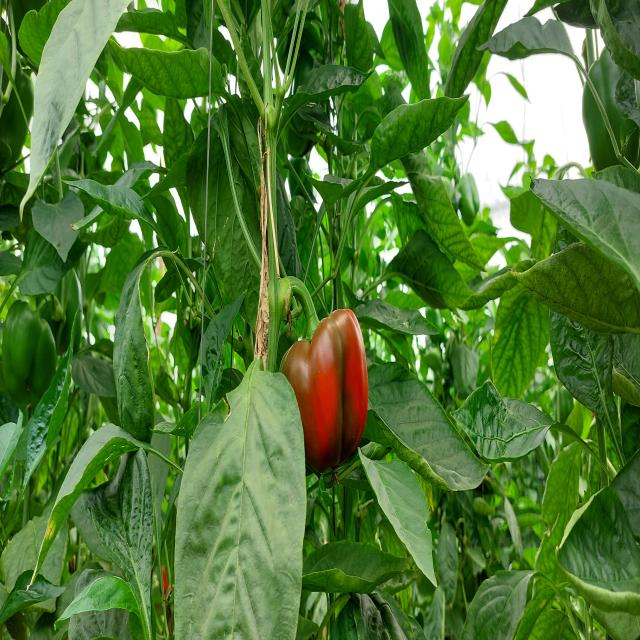Red-Ready-to-Harvest: (274, 304, 369, 476)
